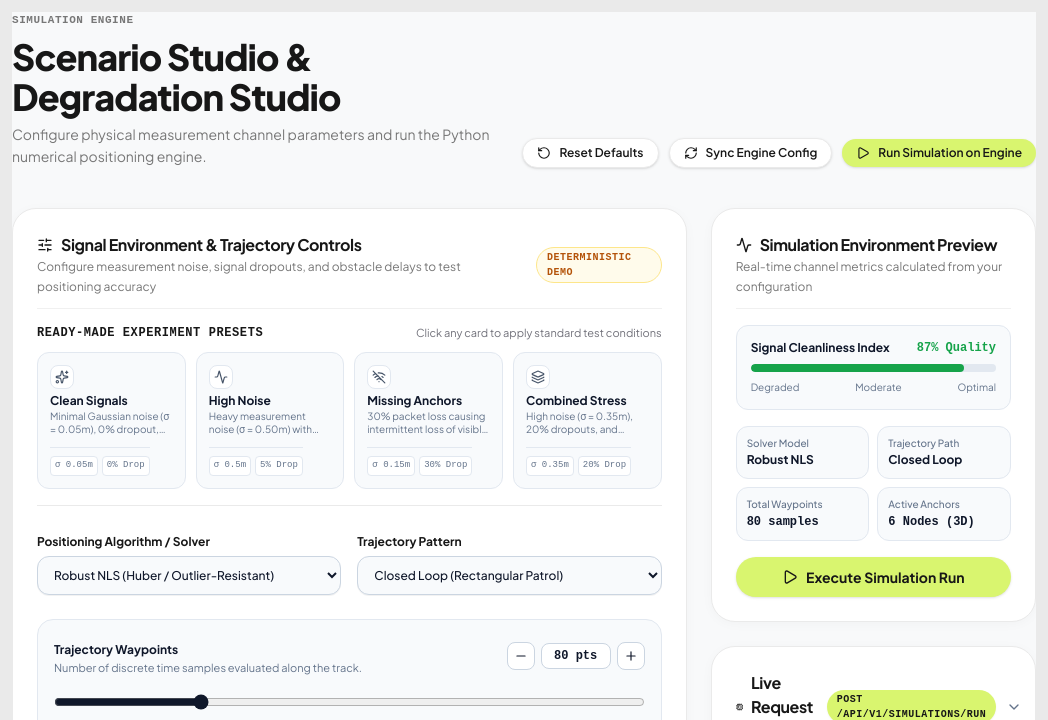
Test case: Phase 5 Frontend–Backend Integration & UI State › Scenario Studio Real Execution & State Controls › renders simulation parameters and disables execution button while running
This screenshot has width=1048, height=720.
Expected: the heading "Scenario Studio & Degradation Studio" is shown, [12, 34, 340, 118]
Click the button "Run Simulation on Engine": click(939, 153) [842, 139, 1036, 167]
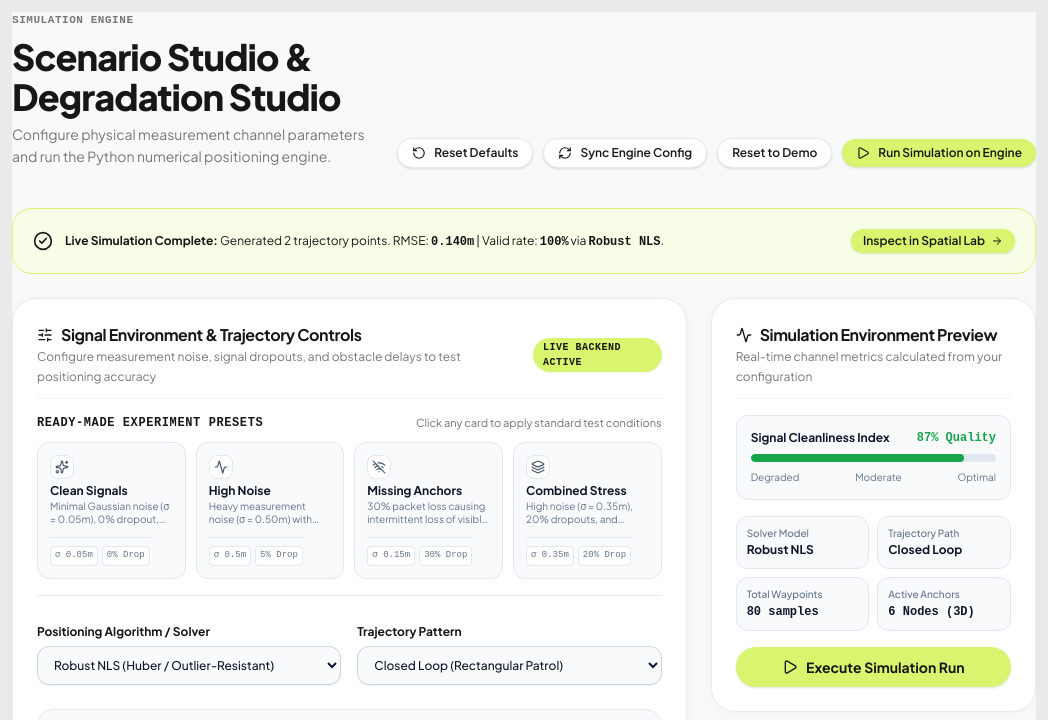
Expected: the text "Solving..." is shown, [878, 145, 1022, 161]
Expected: the text "Live Simulation Complete:" is shown, [65, 232, 218, 248]
Expected: the text "0.140m" is shown, [431, 234, 474, 248]
